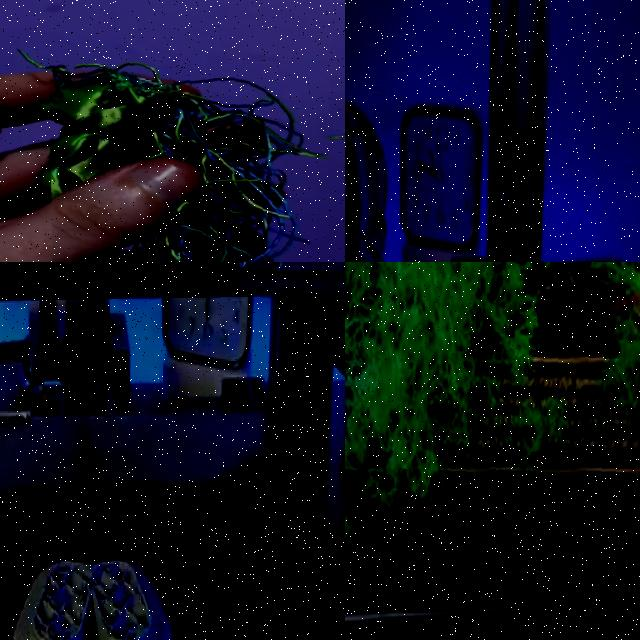spaghetti: (345, 262, 640, 573), (48, 10, 336, 262)
